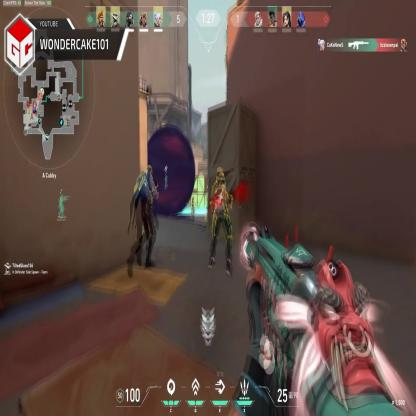enemy: (209, 168, 232, 264), (138, 170, 154, 265), (189, 193, 197, 222)
enemy_head: (216, 172, 224, 188), (140, 170, 148, 181), (192, 196, 195, 199)
